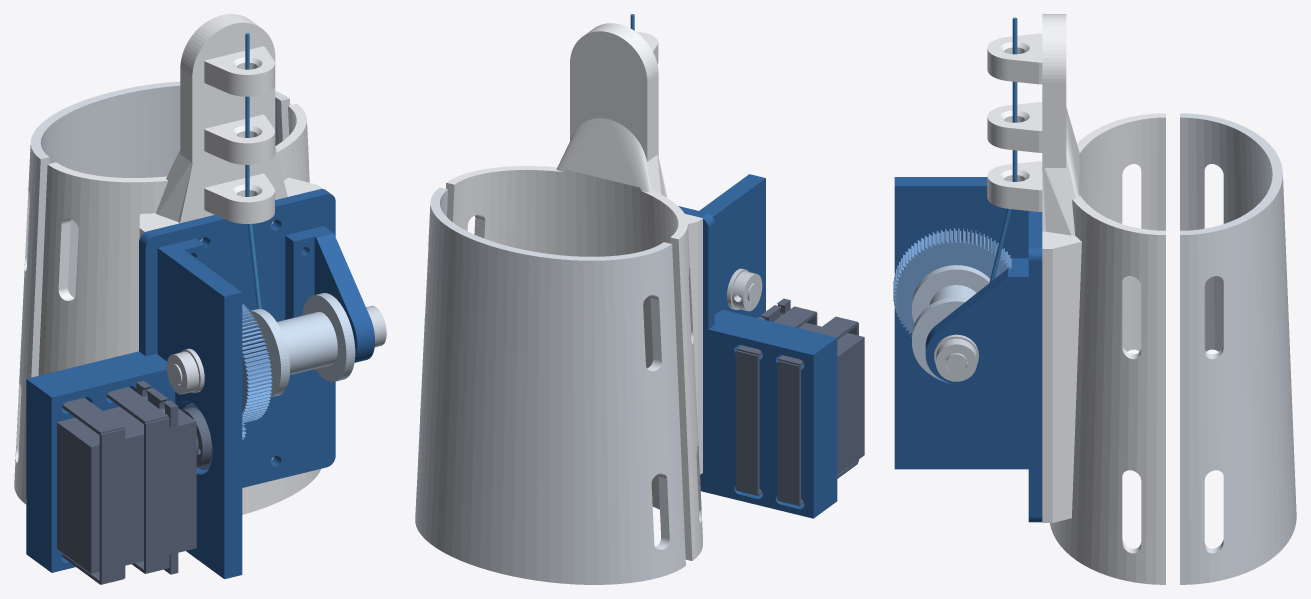
File: assembly-studio.glb
3 renders of one model, left to right at view 1: azimuth 30°, elevation 25°; view 2: azimuth 150°, elevation 25°; view 3: azimuth 270°, elevation 25°, orthographic. The views are drawn at different scales.
Visible parts, largest first — view 1: upper, plate, lower, motorwall, motor_body, spool, supportwall, belt_ref_0, belt_ref_1, driven, motor_ears, collar_left (+2 smaller); view 2: lower, upper, plate, motorwall, belt_ref_1, belt_ref_0, motor_body, collar_left; view 3: upper, lower, motorwall, supportwall, driven, plate, spool, collar_right.
Boxes of the visible parts, x1=… form: upper: x1=38, y1=14, x2=322, y2=514; plate: x1=26, y1=189, x2=335, y2=572; lower: x1=14, y1=81, x2=290, y2=504; motorwall: x1=157, y1=238, x2=242, y2=579; motor_body: x1=57, y1=400, x2=196, y2=573; spool: x1=249, y1=293, x2=355, y2=397; supportwall: x1=285, y1=226, x2=374, y2=362; belt_ref_0: x1=62, y1=397, x2=125, y2=584; belt_ref_1: x1=106, y1=387, x2=169, y2=573; driven: x1=242, y1=304, x2=272, y2=423; motor_ears: x1=136, y1=380, x2=178, y2=574; collar_left: x1=166, y1=351, x2=198, y2=394; lower: x1=415, y1=187, x2=685, y2=584; upper: x1=446, y1=23, x2=702, y2=560; plate: x1=678, y1=206, x2=837, y2=518; motorwall: x1=699, y1=174, x2=765, y2=317; belt_ref_1: x1=735, y1=306, x2=817, y2=495; belt_ref_0: x1=777, y1=316, x2=858, y2=506; motor_body: x1=761, y1=316, x2=864, y2=474; collar_left: x1=732, y1=271, x2=762, y2=311; upper: x1=987, y1=14, x2=1165, y2=584; lower: x1=1180, y1=113, x2=1296, y2=584; motorwall: x1=894, y1=177, x2=1028, y2=469; supportwall: x1=925, y1=258, x2=1028, y2=407; driven: x1=893, y1=228, x2=1011, y2=336; plate: x1=1028, y1=211, x2=1042, y2=522; spool: x1=912, y1=265, x2=990, y2=380; collar_right: x1=936, y1=338, x2=976, y2=381.
Bounding box in the file's own units: 117 × 160 × 117.
